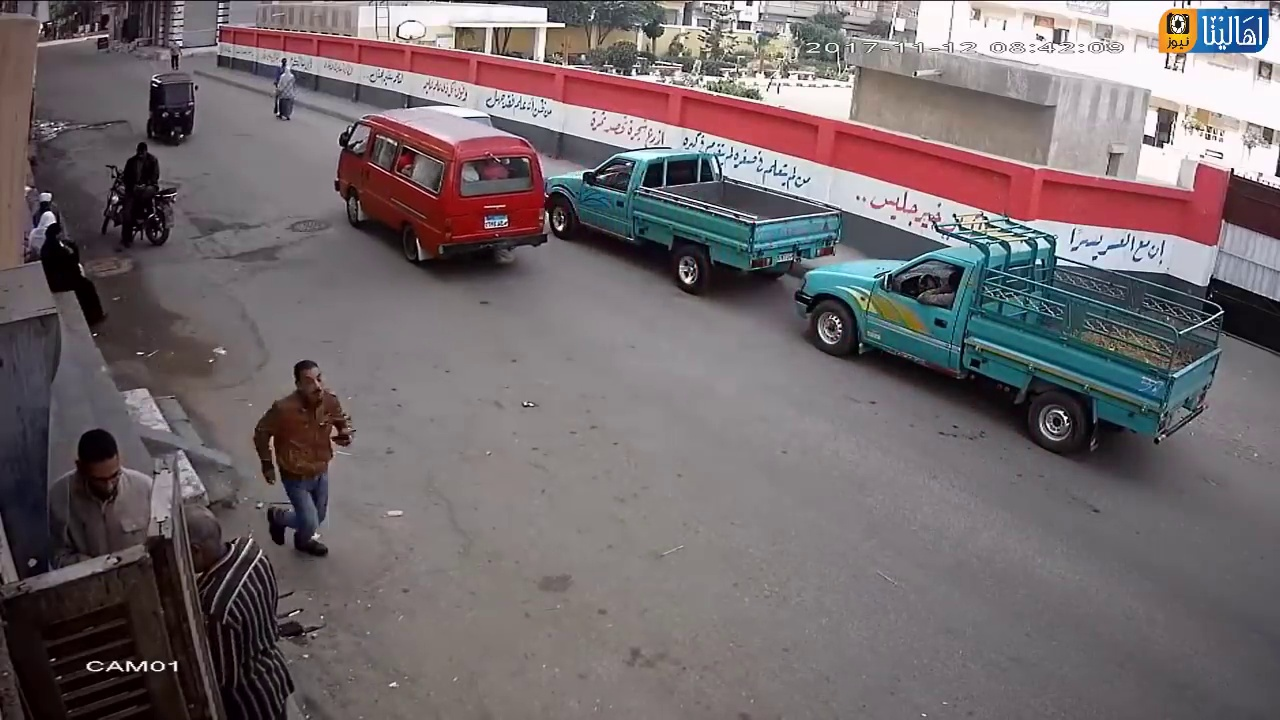face: (79, 455, 124, 503), (295, 365, 326, 402)
